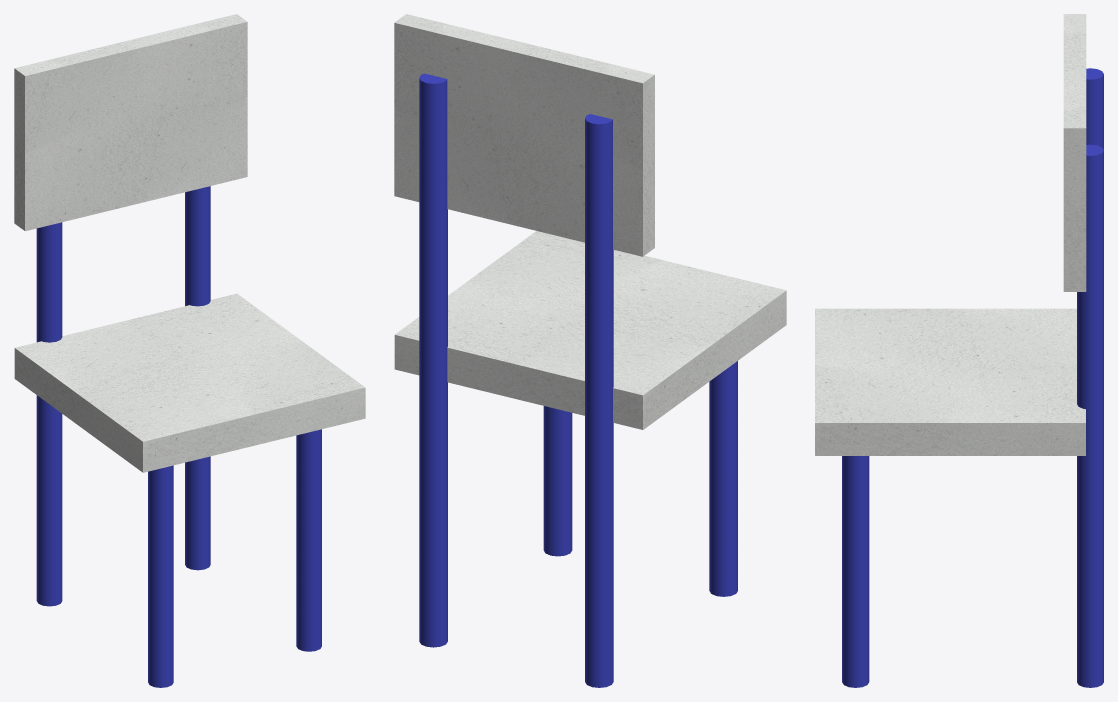
The model's file is metalChair.obj.
The picture shows the model from 3 angles, left to right: view 1: azimuth 30°, elevation 25°; view 2: azimuth 150°, elevation 25°; view 3: azimuth 270°, elevation 25°; orthographic projection. The views are drawn at different scales.
Parts seen in each view (by area): view 1: mesh01, mesh02, cylinder01, cylinder03, cylinder04, cylinder02; view 2: mesh01, mesh02, cylinder03, cylinder01, cylinder02, cylinder04; view 3: mesh01, cylinder03, mesh02, cylinder04, cylinder01.
Boxes of the visible parts, bbox=[...] form: mesh01: bbox=[14, 293, 365, 472]; mesh02: bbox=[14, 14, 247, 231]; cylinder01: bbox=[36, 222, 62, 606]; cylinder03: bbox=[185, 186, 210, 570]; cylinder04: bbox=[296, 429, 321, 651]; cylinder02: bbox=[148, 465, 173, 687]; mesh01: bbox=[394, 231, 786, 429]; mesh02: bbox=[394, 14, 654, 256]; cylinder03: bbox=[419, 73, 447, 647]; cylinder01: bbox=[585, 114, 613, 687]; cylinder02: bbox=[709, 361, 737, 596]; cylinder04: bbox=[543, 406, 572, 556]; mesh01: bbox=[815, 308, 1085, 455]; cylinder03: bbox=[1077, 144, 1103, 687]; mesh02: bbox=[1063, 14, 1086, 291]; cylinder04: bbox=[842, 456, 869, 687]; cylinder01: bbox=[1086, 68, 1103, 149].
Bounding box in the file's own units: 1.5 × 3.5 × 1.6.
Materials: 2 (2 with a texture image).
